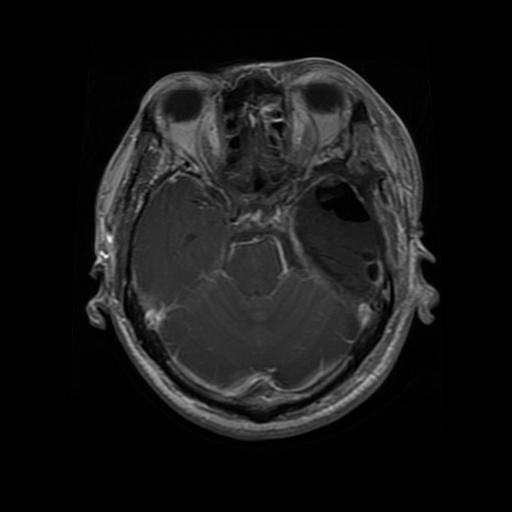glioma: (297, 176, 388, 300)
